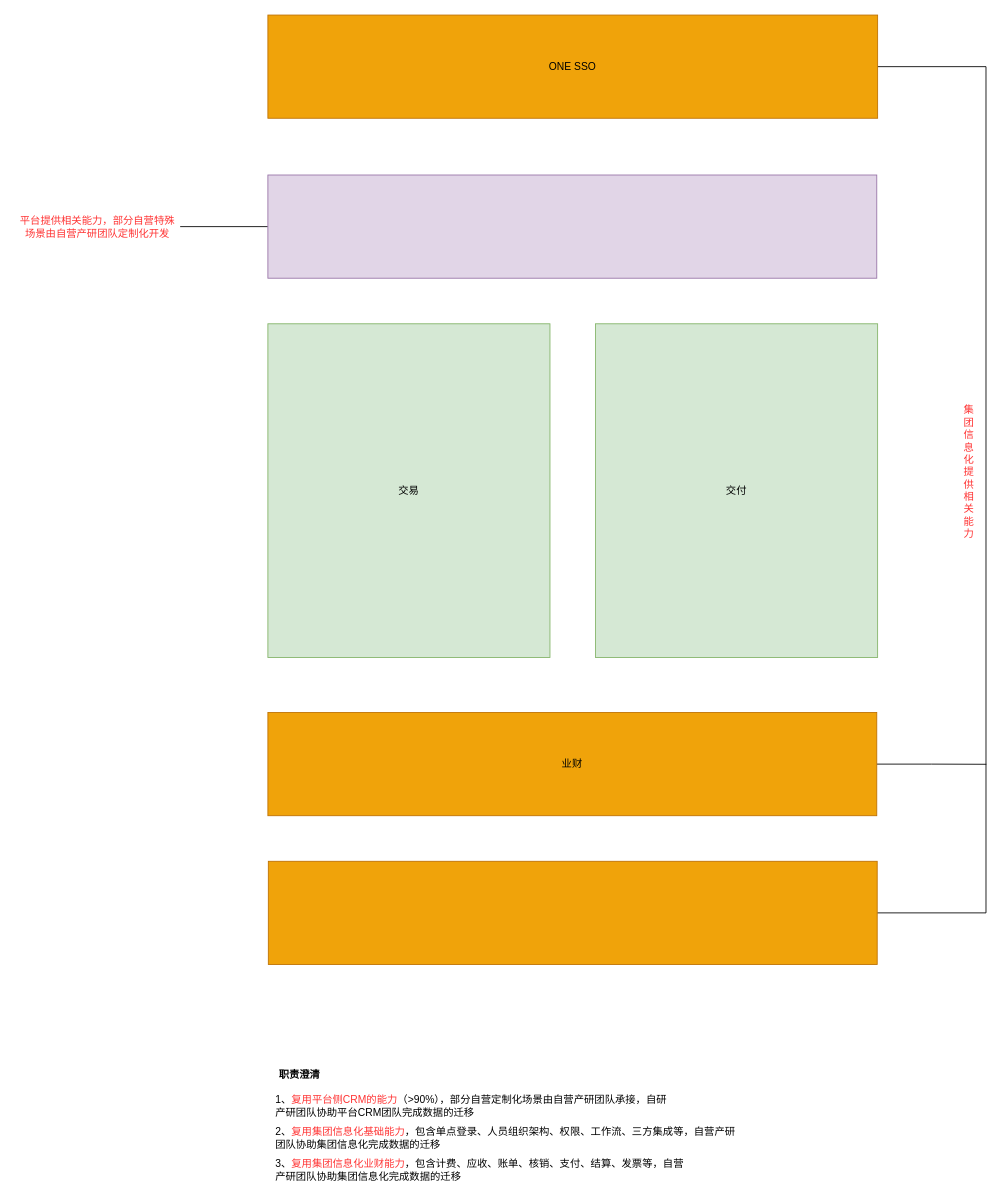
The diagram is 1002 pixels wide and 1198 high, and some of its shapes have lost their labels. The shapes that lost their labels are listed below. From the top down, each one's box as (x1, y1, x2, y2) in pixels, then its label:
(267, 174, 877, 278): ONE CRM
(267, 860, 877, 964): 基础
